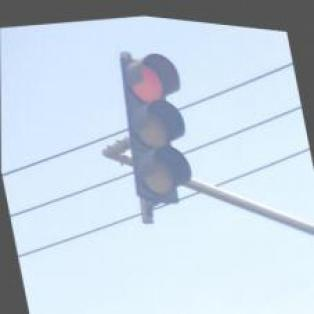Semoforo Rojo: (109, 42, 205, 208)
